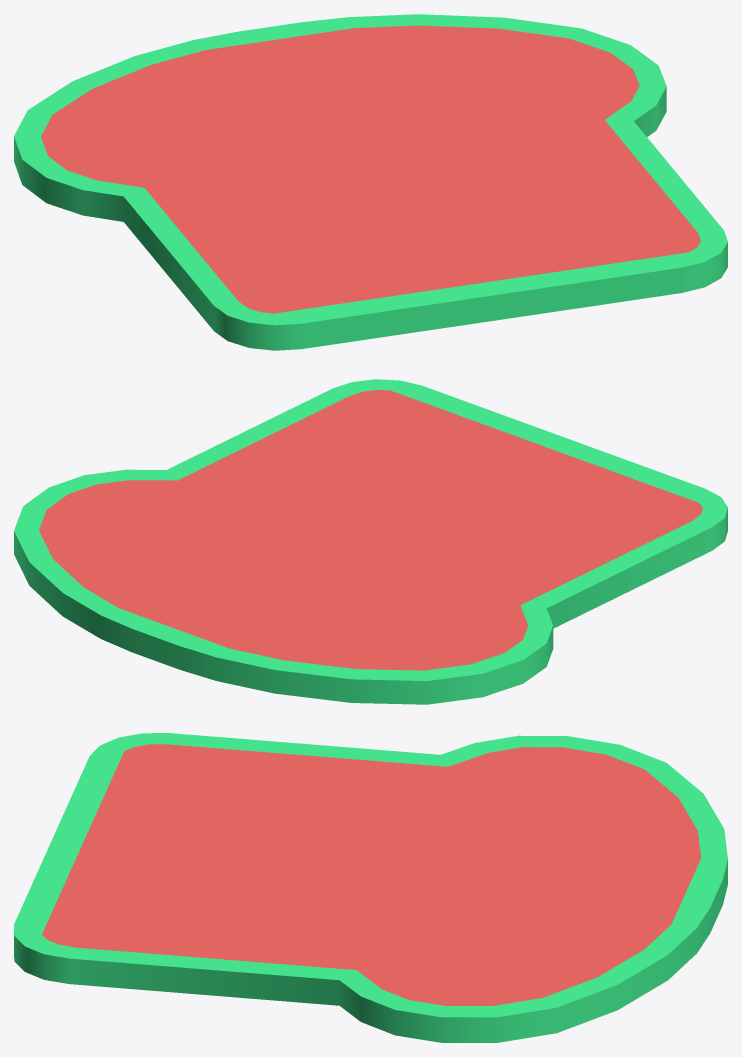
Rendered from ToyObject_129.fbx.
3 renders of one model, top to bottom at view 1: azimuth 30°, elevation 25°; view 2: azimuth 150°, elevation 25°; view 3: azimuth 270°, elevation 25°, orthographic. The views are drawn at different scales.
Visible parts, largest first — view 1: 1.007; view 2: 1.007; view 3: 1.007.
Boxes of the visible parts, box(x1,y1,x2,y2) form: 1.007: box(14, 14, 727, 350); 1.007: box(14, 379, 727, 704); 1.007: box(14, 733, 727, 1042).
Bounding box in the file's own units: 0.1595 × 0.00669 × 0.1694.
